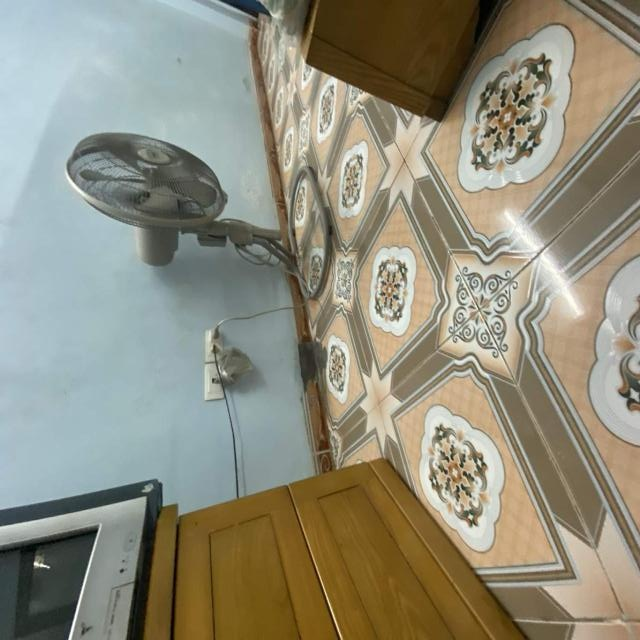outlet: (204, 364, 225, 402), (205, 329, 223, 363)
